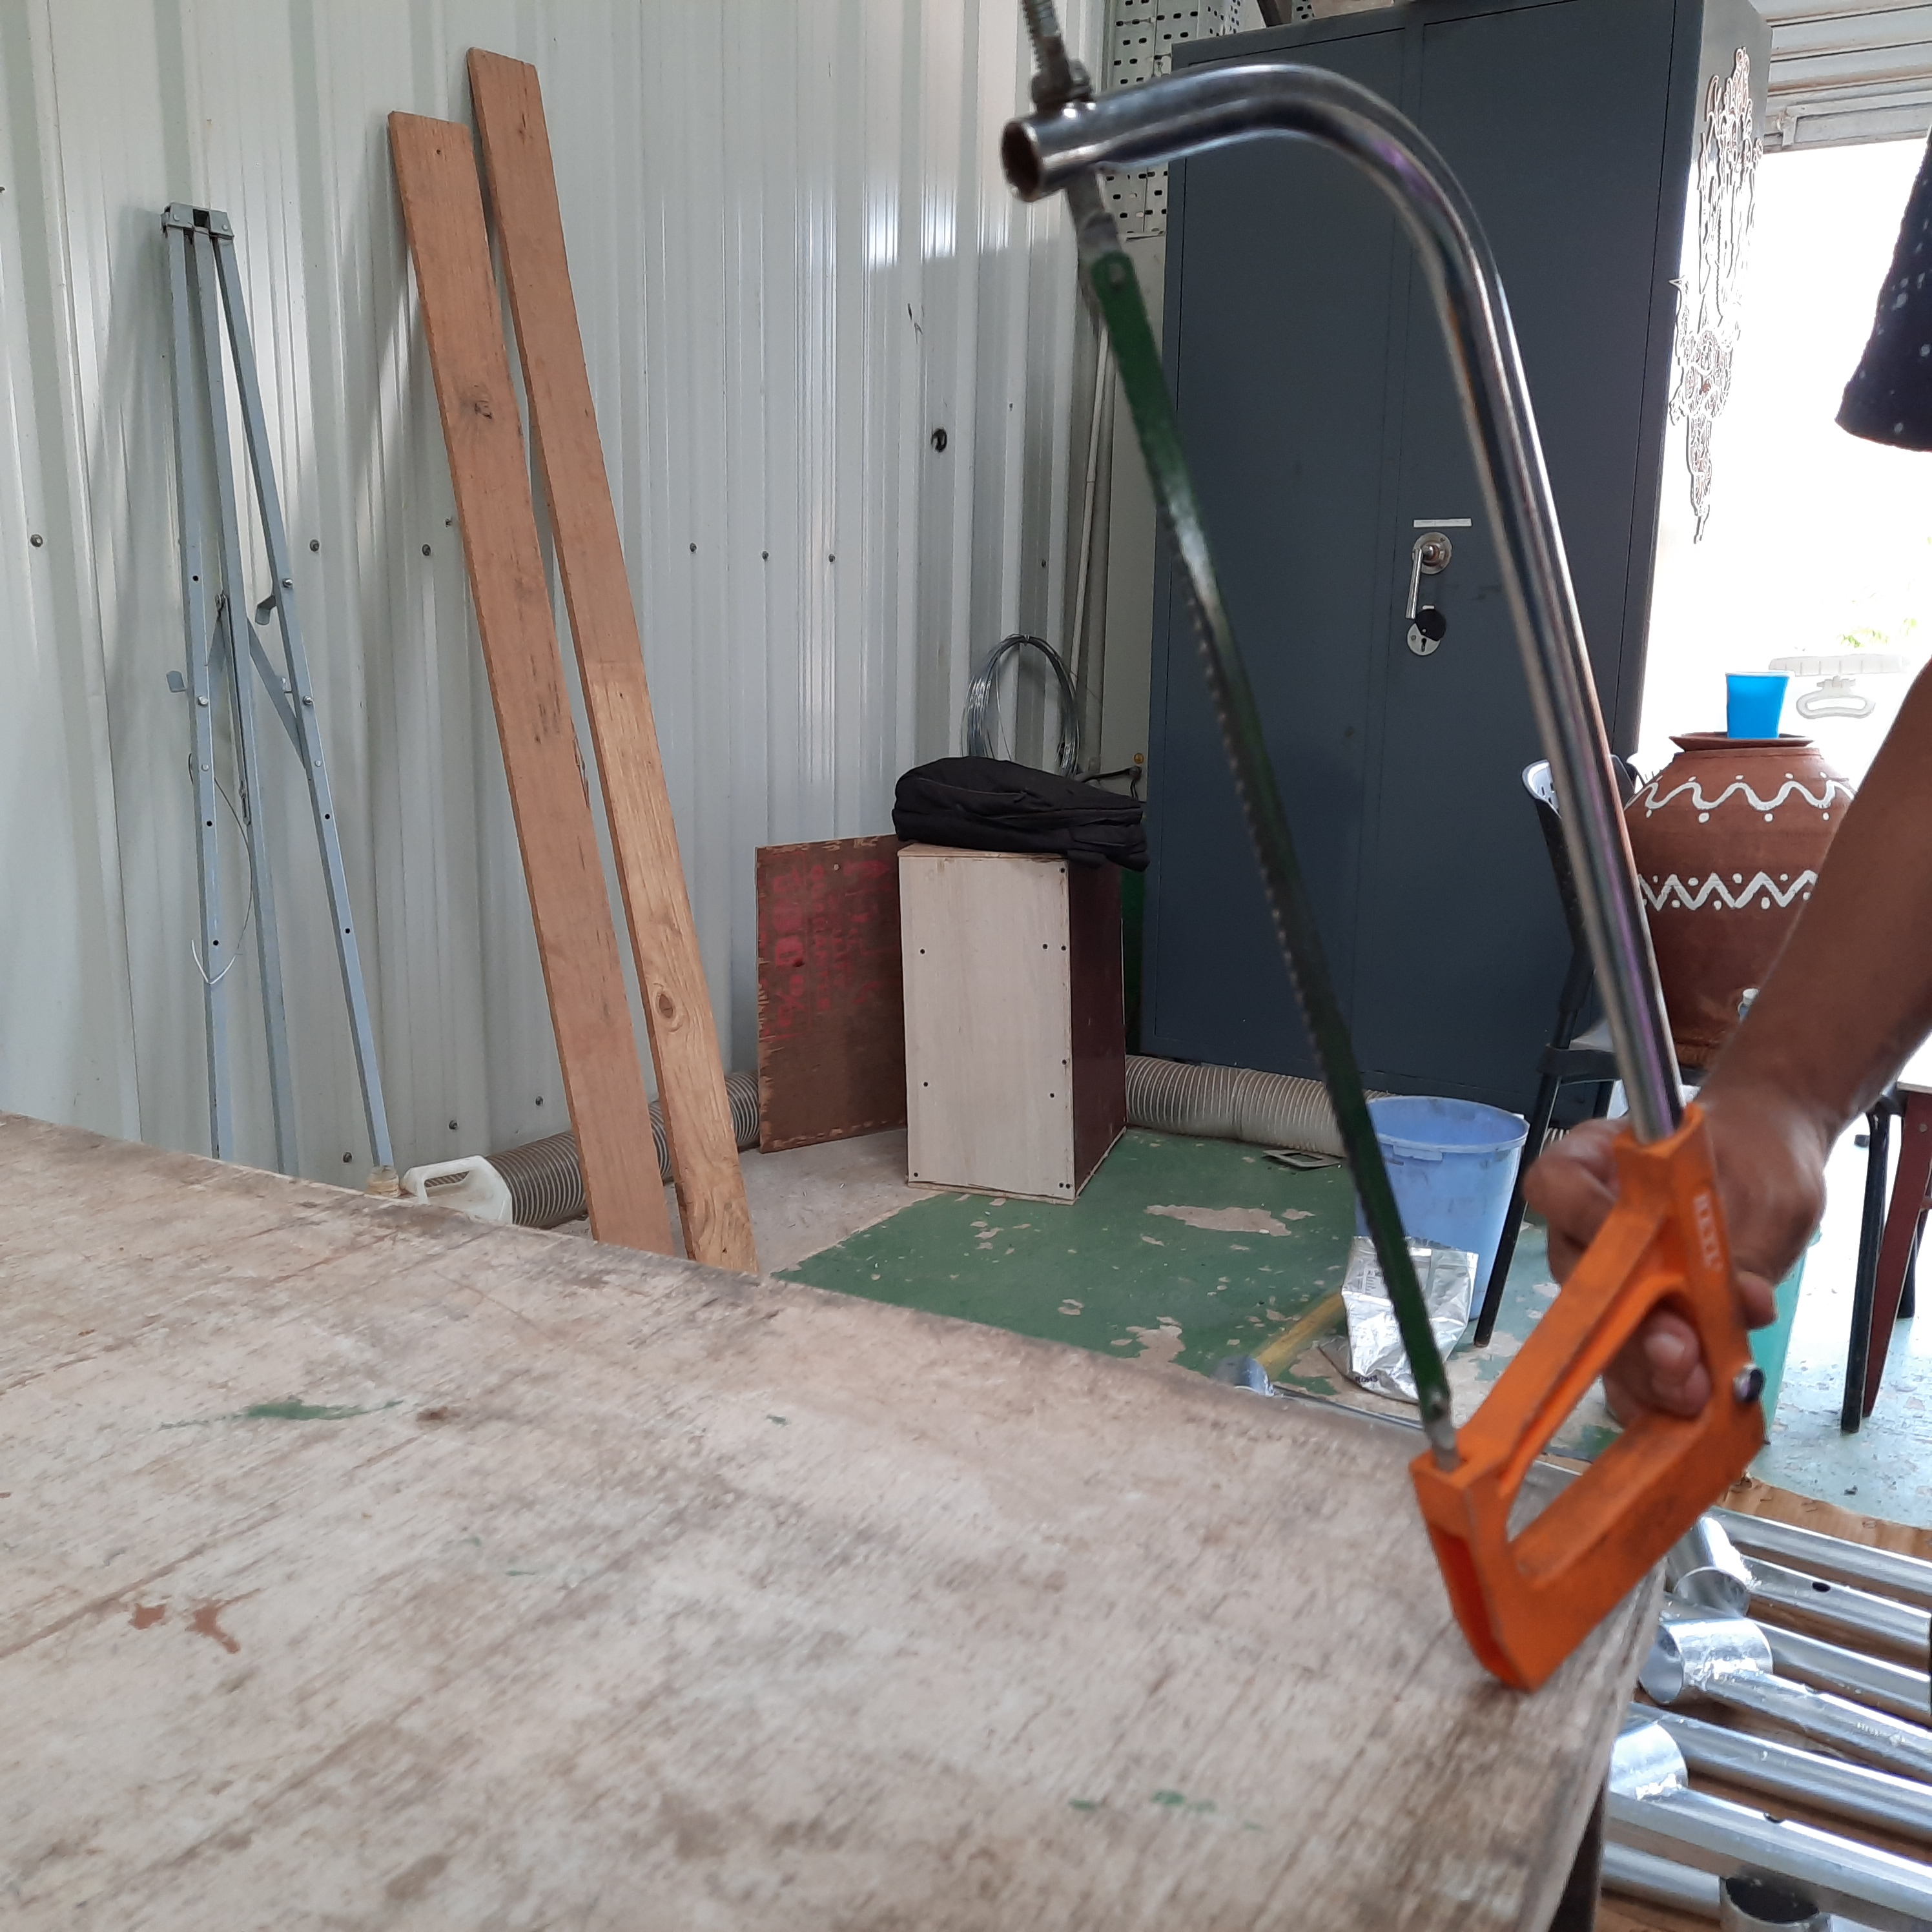Hexaframe: (964, 5, 1798, 1706)
